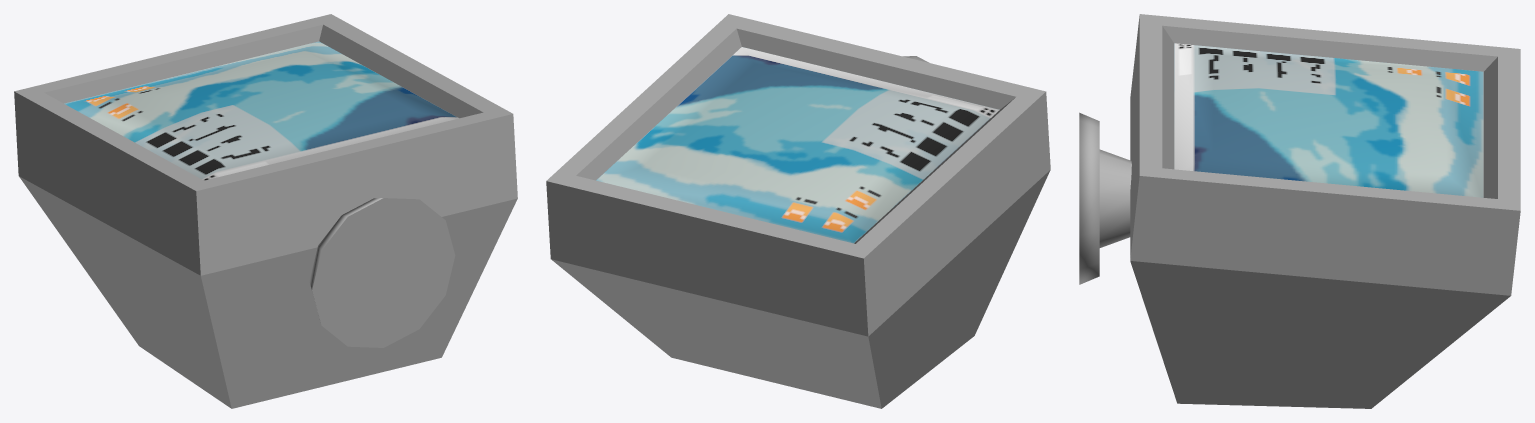
The model's file is PC_Monitor.glb.
3 views of the same model, side by side, from view 1: azimuth 30°, elevation 25°; view 2: azimuth 150°, elevation 25°; view 3: azimuth 270°, elevation 25° (orthographic). The views are drawn at different scales.
Parts seen in each view (by area): view 1: PC Monitor; view 2: PC Monitor; view 3: PC Monitor.
Boxes of the visible parts, <box> form: PC Monitor: <box>14,14,517,408</box>; PC Monitor: <box>546,14,1050,408</box>; PC Monitor: <box>1079,14,1520,408</box>.
Size of the model in its own units: 0.4 by 0.3001 by 0.461.
2 materials, 2 textured.
